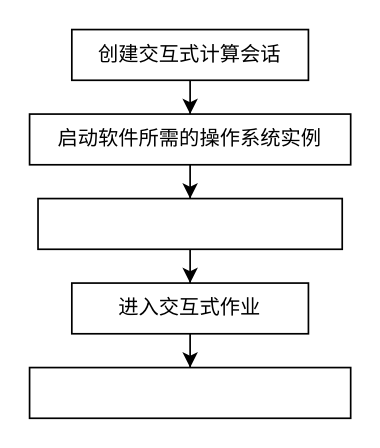
This 380x448 diagram has some shape labels left out. The shapes that lost their labels are listed below. From the top down, each one's centre as x and y in pixels, then its label:
the point at 189,223: 挂载会话指定的存储服务位置
the point at 189,392: 关闭会话 关闭操作系统实例
